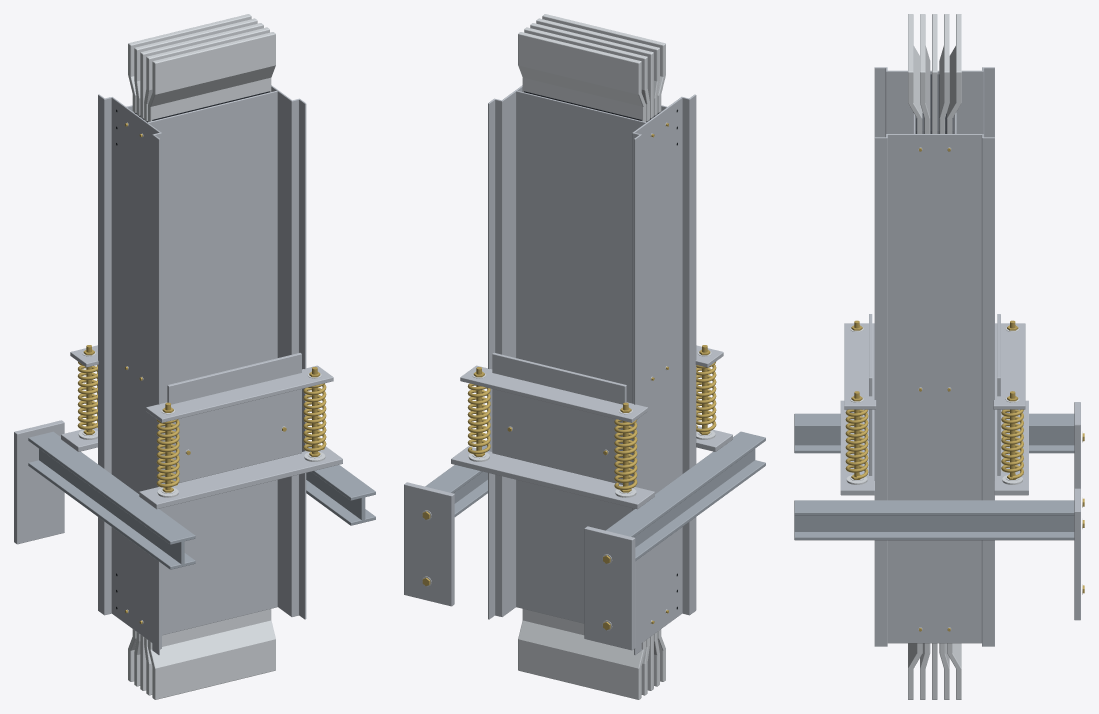
Rendered from spring-support-wall.glb.
The picture shows the model from 3 angles, left to right: view 1: azimuth 30°, elevation 25°; view 2: azimuth 150°, elevation 25°; view 3: azimuth 270°, elevation 25°; orthographic projection.
Visible parts, largest first — view 1: Recessed side sheet, Continuous folded upper profile, Continuous folded lower profile, Clamping cheek, Blade 1 plated spread terminal, Blade 1 plated spread terminal.001, Wall anchor plate, Channel flange.001, Cross plate, Upper bearing angle, Channel flange, Channel web (+10 smaller); view 2: Recessed side sheet.001, Continuous folded upper profile, Continuous folded lower profile, Clamping cheek.001, Blade 5 plated spread terminal.001, Blade 5 plated spread terminal, Wall anchor plate, Wall anchor plate.001, Channel flange.001, Cross plate.001, Upper bearing angle.001, Channel flange (+9 smaller); view 3: Continuous folded lower profile, Continuous folded upper profile, Channel web.001, Channel flange.003, Channel flange.002, Upper bearing angle, Upper bearing angle.001, Channel web, Cross plate, Channel flange.001, Cross plate.001, Compression spring - ten turns.002 (+13 smaller).
Part boxes in pixels (x1,y1,x2,y2): Recessed side sheet: [148, 90, 277, 635]; Continuous folded upper profile: [98, 94, 161, 654]; Continuous folded lower profile: [271, 85, 306, 619]; Clamping cheek: [167, 353, 301, 483]; Blade 1 plated spread terminal: [148, 609, 275, 699]; Blade 1 plated spread terminal.001: [148, 32, 275, 121]; Wall anchor plate: [14, 420, 64, 544]; Channel flange.001: [28, 431, 195, 544]; Cross plate: [139, 446, 342, 509]; Upper bearing angle: [146, 365, 333, 422]; Channel flange: [28, 460, 195, 569]; Channel web: [39, 449, 184, 564]; Recessed side sheet.001: [516, 90, 646, 623]; Continuous folded upper profile: [632, 94, 696, 654]; Continuous folded lower profile: [488, 85, 522, 619]; Clamping cheek.001: [492, 353, 626, 484]; Blade 5 plated spread terminal.001: [518, 32, 646, 121]; Blade 5 plated spread terminal: [518, 609, 646, 699]; Wall anchor plate: [584, 526, 635, 650]; Wall anchor plate.001: [404, 482, 454, 606]; Channel flange.001: [606, 431, 765, 537]; Cross plate.001: [451, 446, 654, 509]; Upper bearing angle.001: [460, 365, 647, 422]; Channel flange: [635, 460, 765, 560]; Continuous folded lower profile: [874, 134, 994, 646]; Continuous folded upper profile: [874, 67, 994, 137]; Channel web.001: [794, 515, 1074, 531]; Channel flange.003: [794, 500, 1074, 515]; Channel flange.002: [794, 532, 1074, 540]; Upper bearing angle: [844, 323, 876, 409]; Upper bearing angle.001: [993, 323, 1025, 409]; Channel web: [794, 428, 1074, 445]; Cross plate: [840, 400, 874, 495]; Channel flange.001: [794, 413, 1074, 428]; Cross plate.001: [994, 400, 1028, 495]; Compression spring - ten turns.002: [845, 409, 868, 479].
Bounding box in the file's own units: 0.324 × 0.864 × 0.3616.
